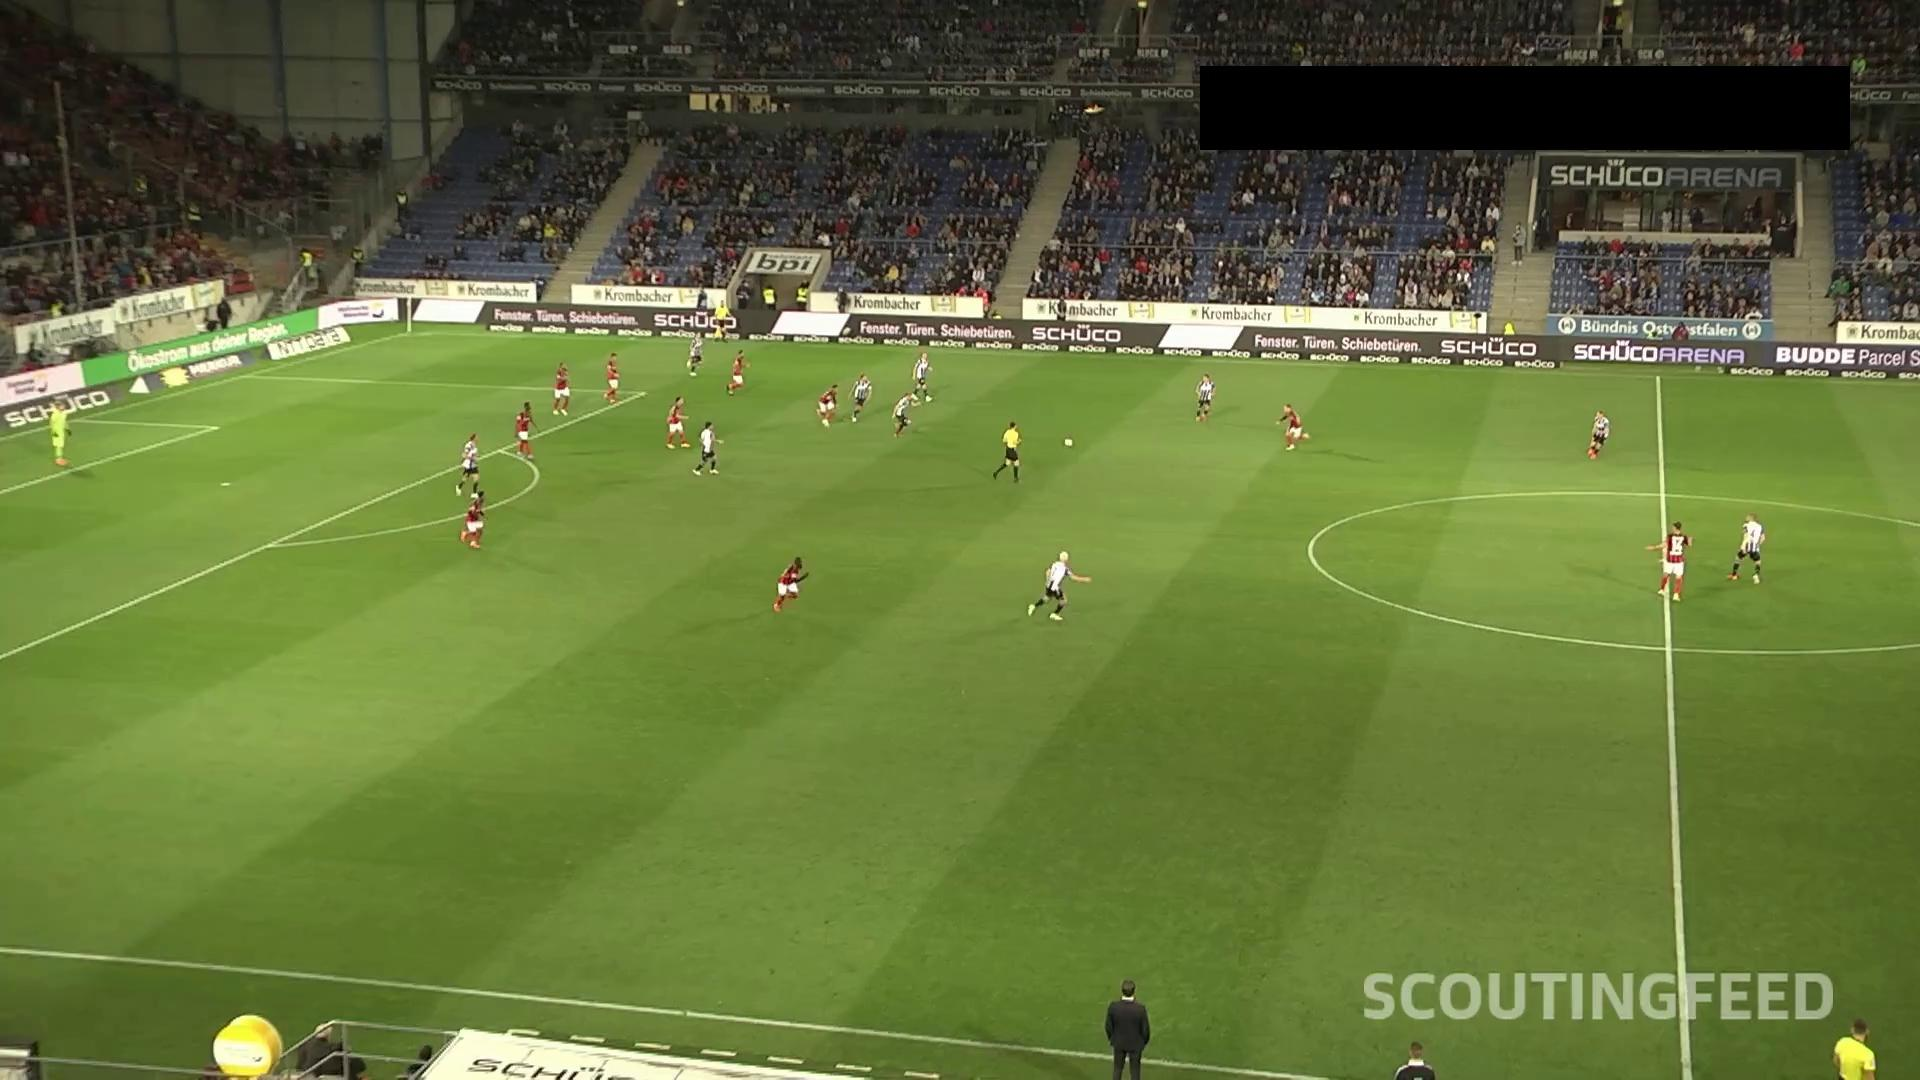Location-of-ball: (1060, 430, 1080, 452)
